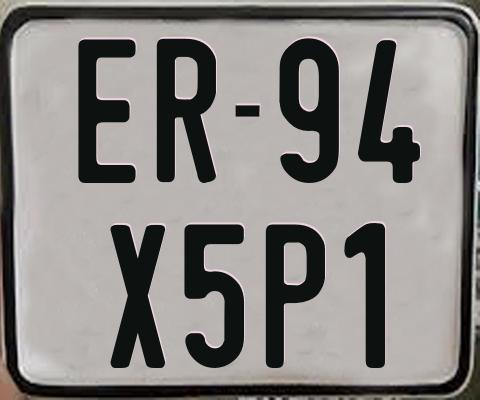1: (341, 222, 387, 371)
4: (355, 38, 421, 187)
5: (181, 223, 247, 372)
9: (276, 35, 337, 180)
E: (78, 39, 137, 185)
P: (263, 221, 325, 369)
R: (154, 37, 217, 184)
X: (107, 222, 168, 366)
